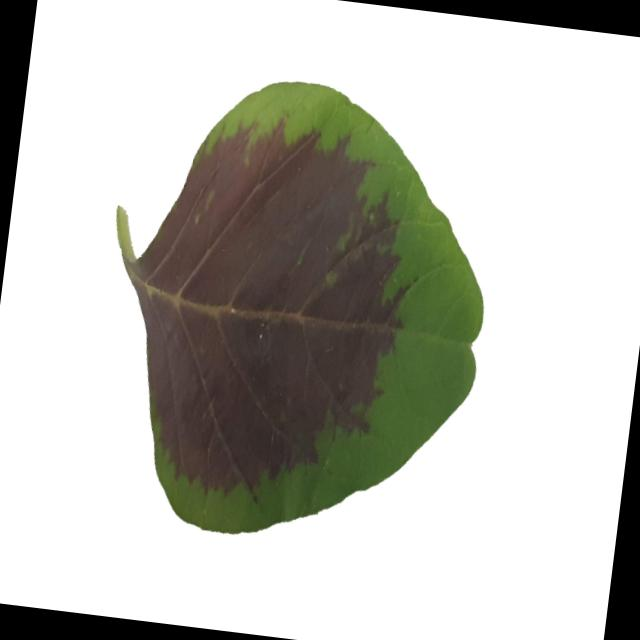Medicinal-Arive Dantu: (73, 59, 507, 559)
